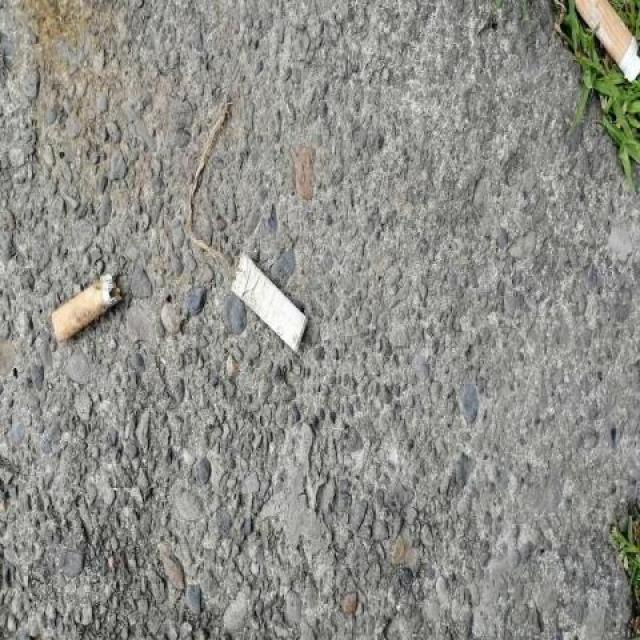non-organic waste: (228, 248, 312, 356), (568, 1, 640, 88), (47, 268, 125, 348)
